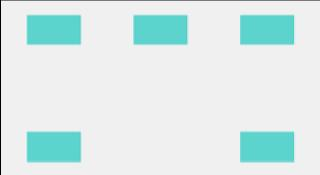Square: (23, 12, 86, 46), (22, 130, 84, 163), (235, 129, 298, 161), (237, 12, 294, 46), (130, 14, 190, 46)
